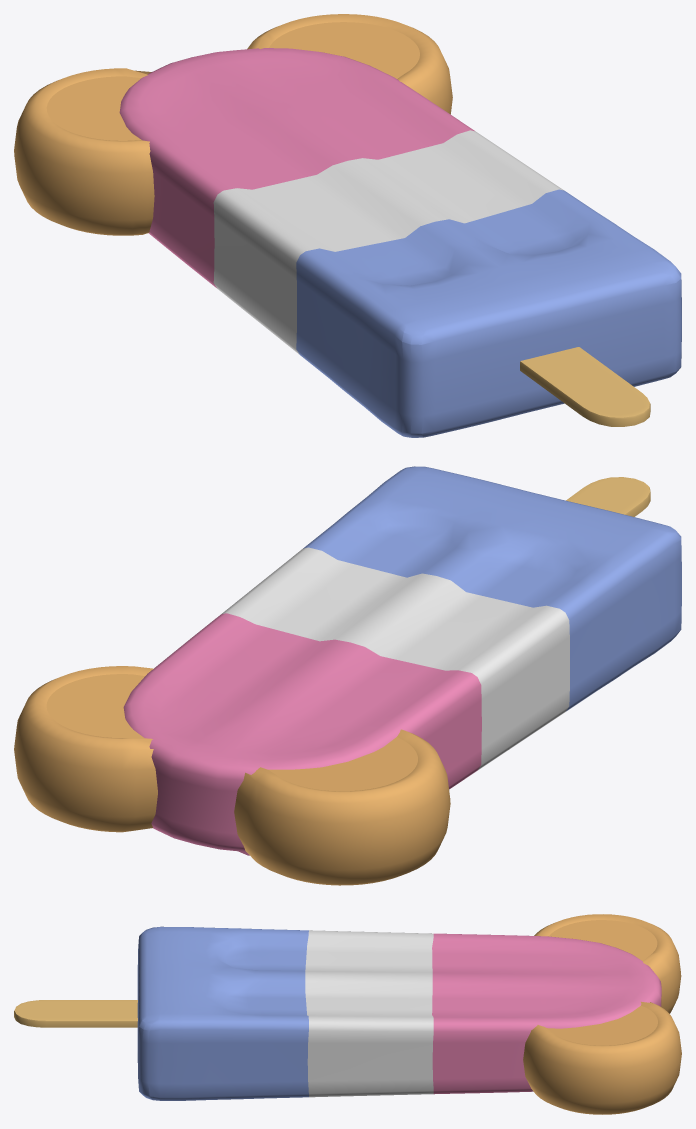
Rendered from popsicle.fbx.
3 renders of one model, top to bottom at view 1: azimuth 30°, elevation 25°; view 2: azimuth 150°, elevation 25°; view 3: azimuth 270°, elevation 25°, orthographic. The views are drawn at different scales.
Parts seen in each view (by area): view 1: popsicle, stick; view 2: popsicle, stick; view 3: popsicle, stick.
Part boxes in pixels (<box>): popsicle: <box>14,14,681,437</box>; stick: <box>520,347,650,426</box>; popsicle: <box>14,466,681,885</box>; stick: <box>566,477,650,516</box>; popsicle: <box>137,914,681,1114</box>; stick: <box>14,1000,137,1027</box>.
Bounding box in the file's own units: 43.14 × 11.34 × 83.51.
